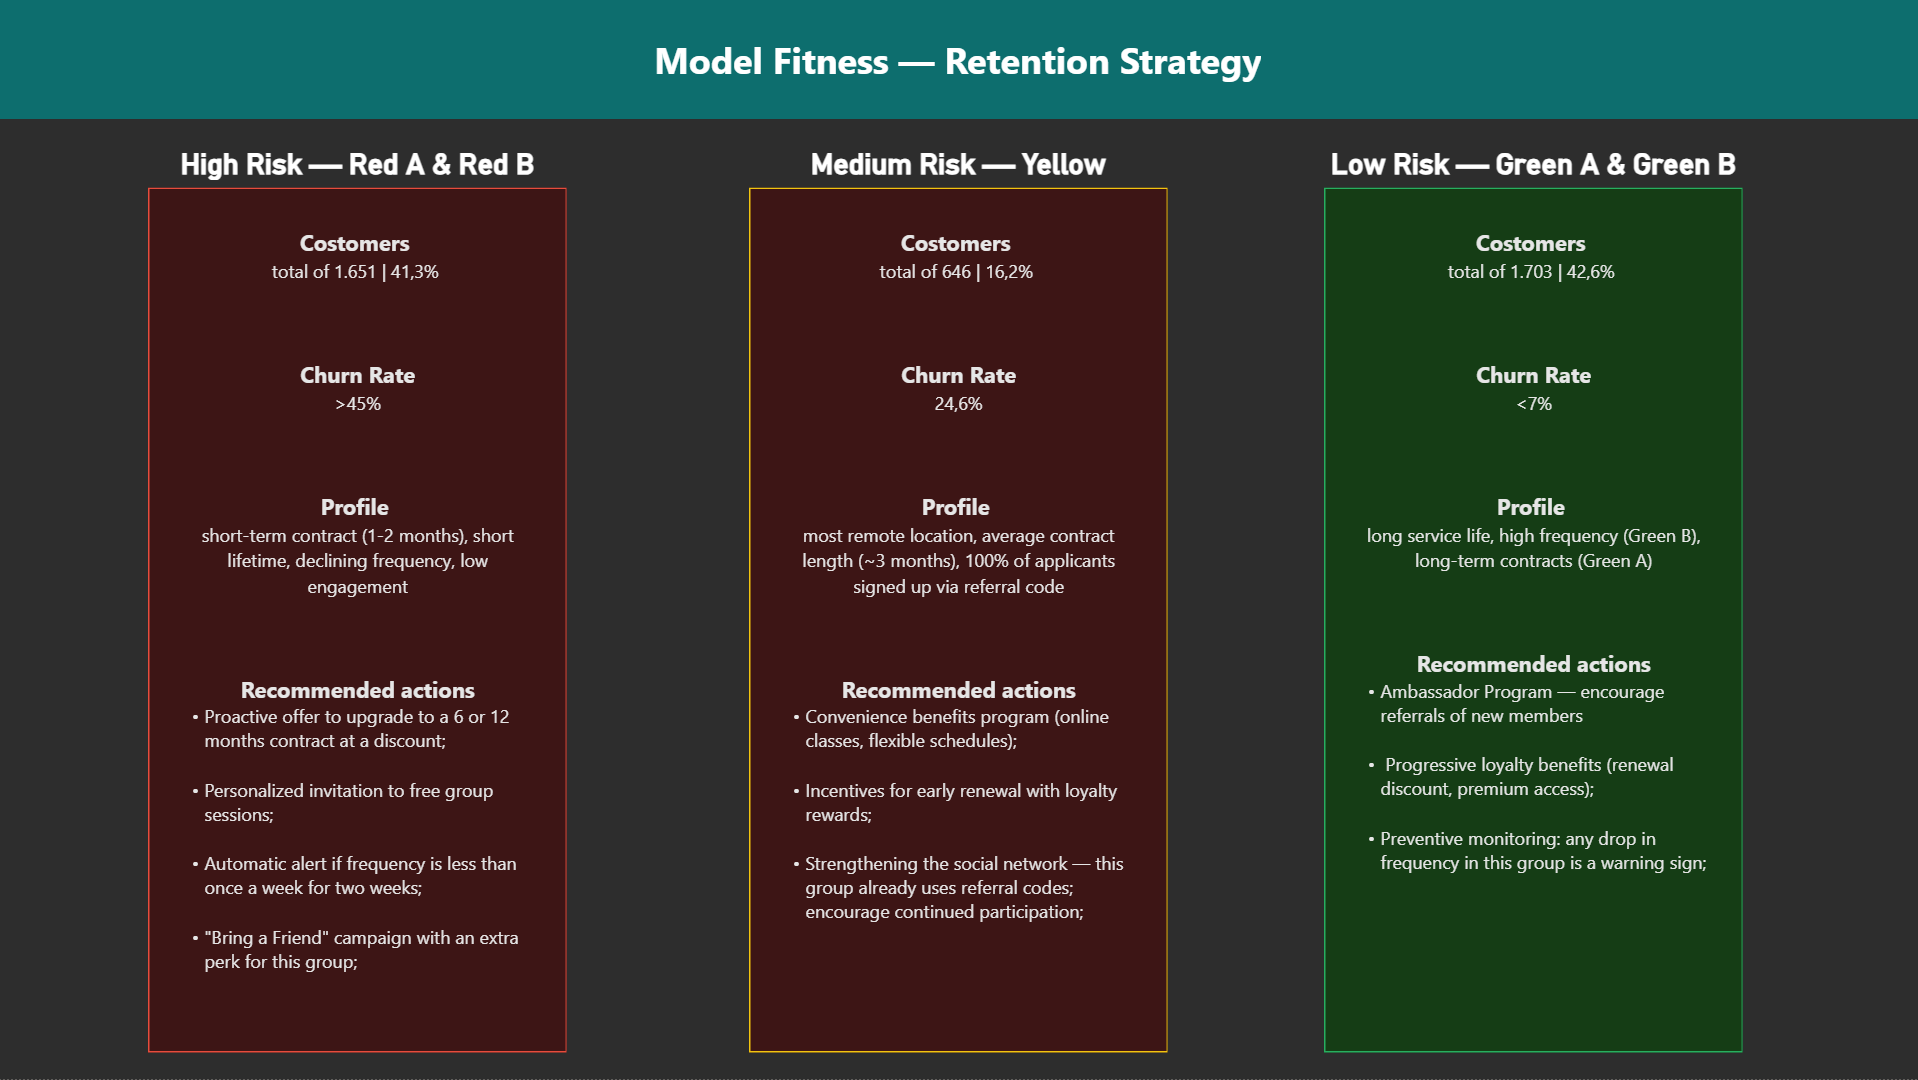

The dashboard page shown, as its layout file describes it:
{"tool":"powerbi","page":{"name":"Recommendations","canvas":[1280,720],"ordinal":3},"visuals":[{"type":"shape","box":[0,0,1280,80],"z":0},{"type":"shape","title":"Low Risk — Green A & Green B","box":[884.3,98.6,279.4,603.7],"z":1000},{"type":"shape","title":"Medium Risk — Yellow","box":[500.6,98.6,279.4,603.7],"z":2000},{"type":"shape","title":"High Risk — Red A & Red B","box":[99.9,98.6,279.4,603.7],"z":3000},{"type":"textbox","box":[114.4,146.6,250.3,534.8],"z":4000},{"type":"textbox","box":[515.2,146.6,250.3,534.8],"z":5000},{"type":"textbox","box":[898.8,146.6,250.3,534.8],"z":6000}]}

Visuals, with their boxes in screenshot pixels (x1, y1, x2, y2), scaled from the page's 1280x720 canvas onto the 1918x1080 screenshot:
shape: (x1=0, y1=0, x2=1917, y2=120)
"Low Risk — Green A & Green B" shape: (x1=1325, y1=148, x2=1744, y2=1053)
"Medium Risk — Yellow" shape: (x1=750, y1=148, x2=1169, y2=1053)
"High Risk — Red A & Red B" shape: (x1=150, y1=148, x2=568, y2=1053)
textbox: (x1=171, y1=220, x2=546, y2=1022)
textbox: (x1=772, y1=220, x2=1147, y2=1022)
textbox: (x1=1347, y1=220, x2=1722, y2=1022)
